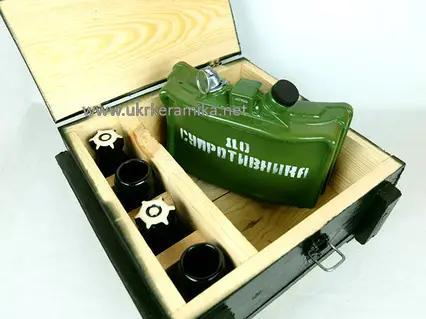MON 50: (161, 62, 354, 209)
